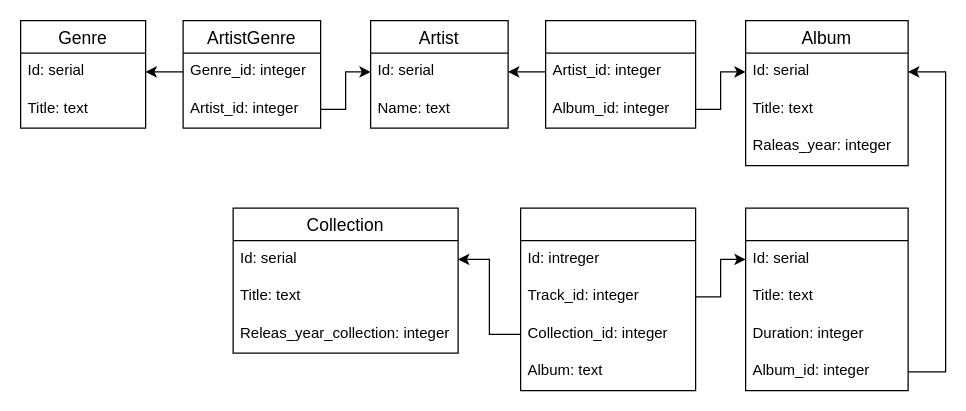
Some shapes in this 966 by 411 pixel diagram are drawn without their labels. Each missing label, with the box of its shape:
ArtistAlbum: (544, 19, 696, 128)
Track: (744, 207, 908, 391)
TrackCollection: (519, 207, 696, 391)
